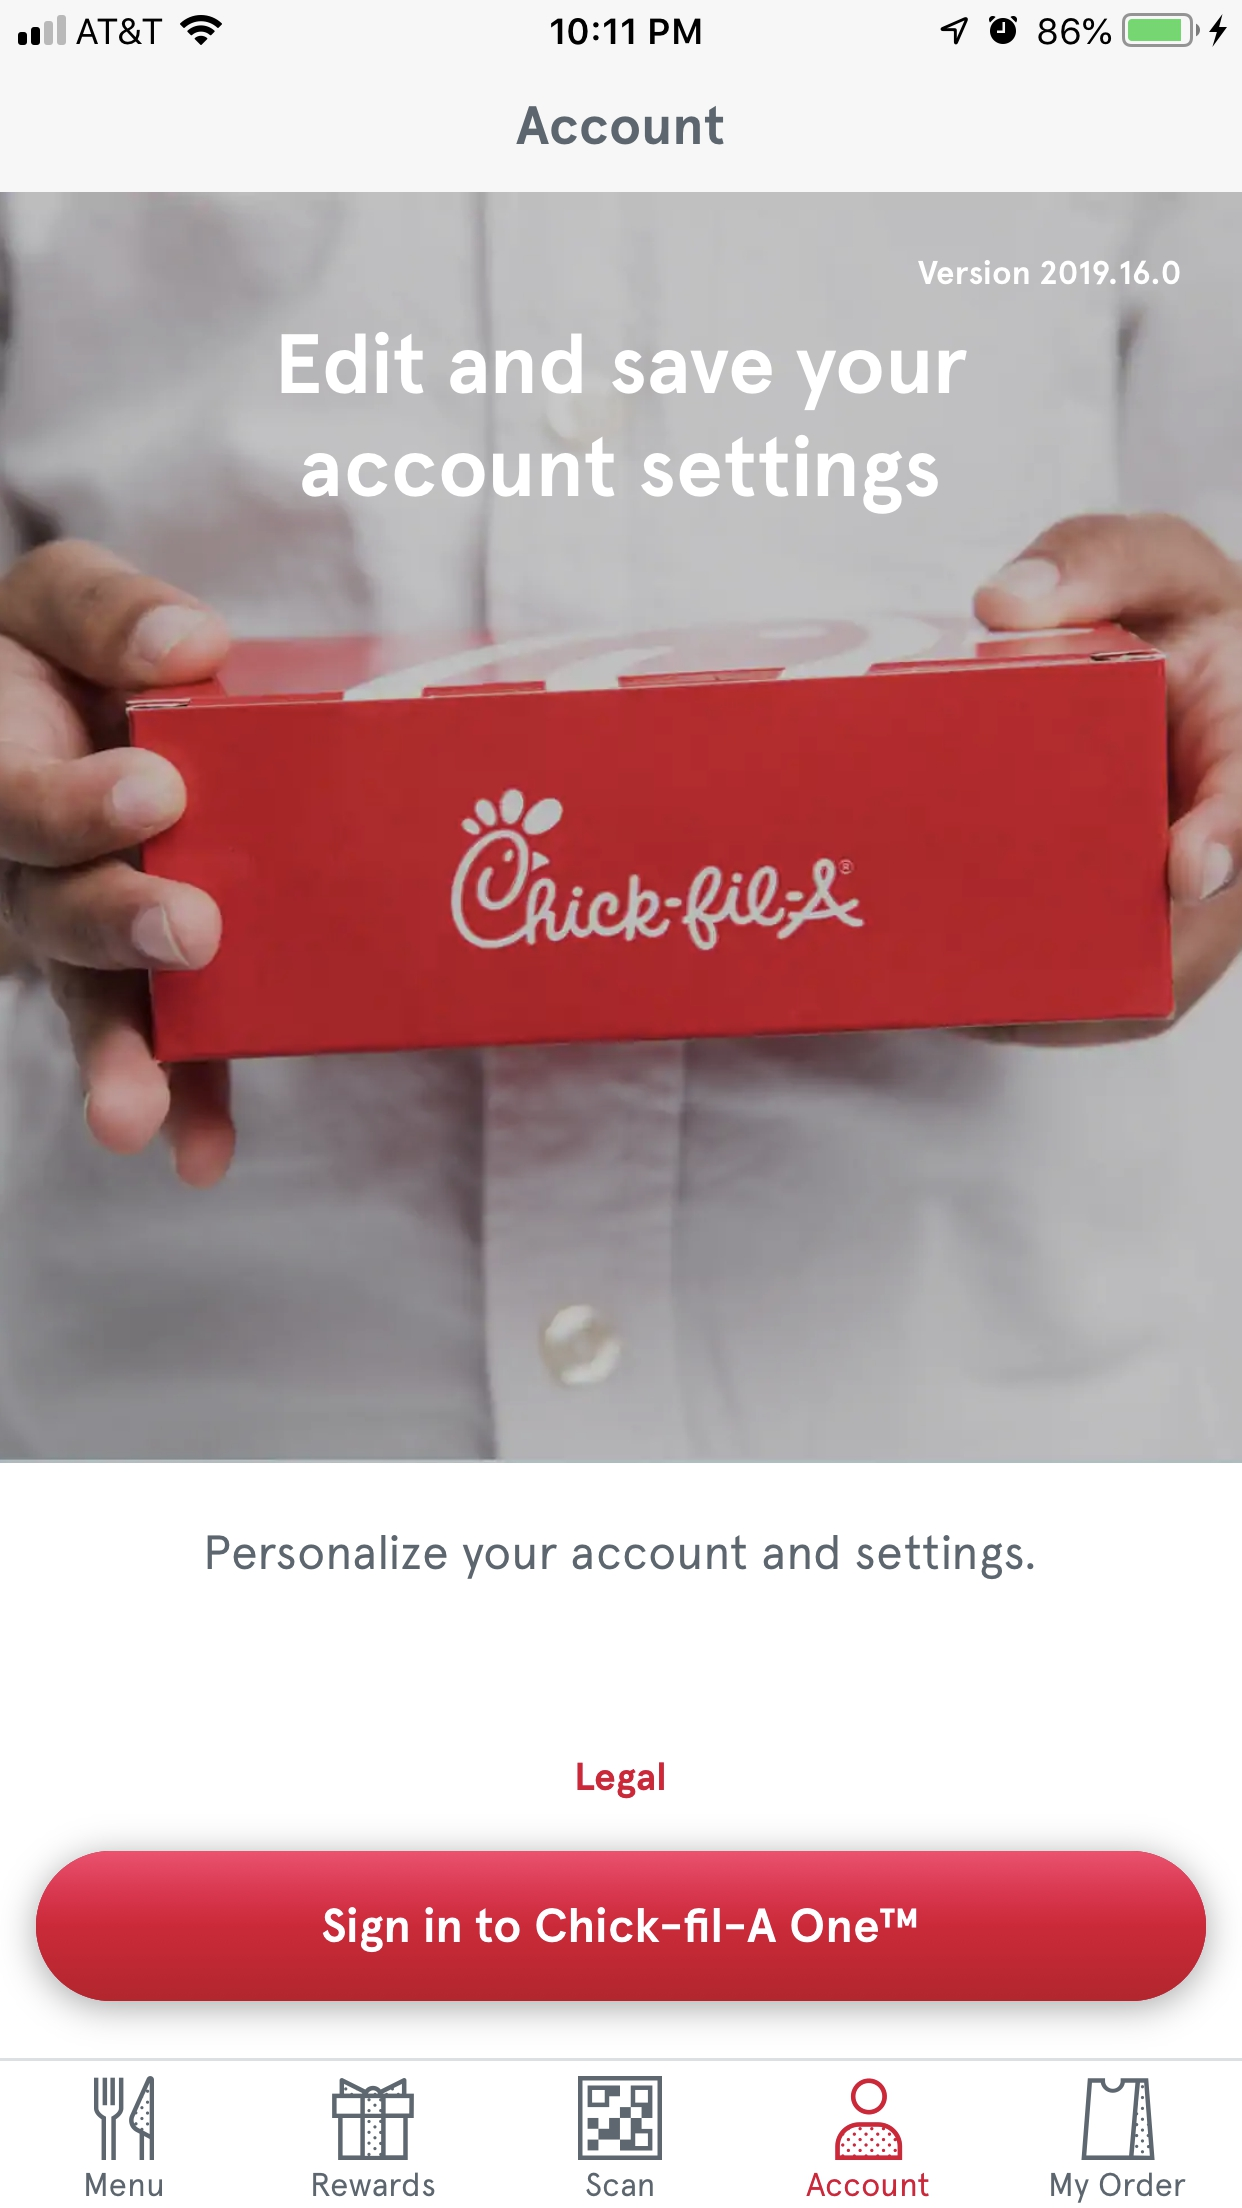Icon: (332, 2078, 416, 2161), (834, 2078, 902, 2161)
Image: (2, 193, 1242, 1463), (578, 2075, 663, 2161), (1081, 2078, 1156, 2161), (94, 2075, 156, 2161)
Text: (281, 331, 968, 516), (206, 1535, 1034, 1582), (516, 106, 725, 146), (917, 259, 1181, 287), (1051, 2172, 1187, 2203), (575, 1764, 670, 1799), (805, 2172, 930, 2197), (312, 2172, 437, 2197), (86, 2172, 164, 2197), (585, 2172, 655, 2197)
TextButton: (36, 1850, 1207, 2002)
UpperTaskBar: (2, 2, 1242, 49)
